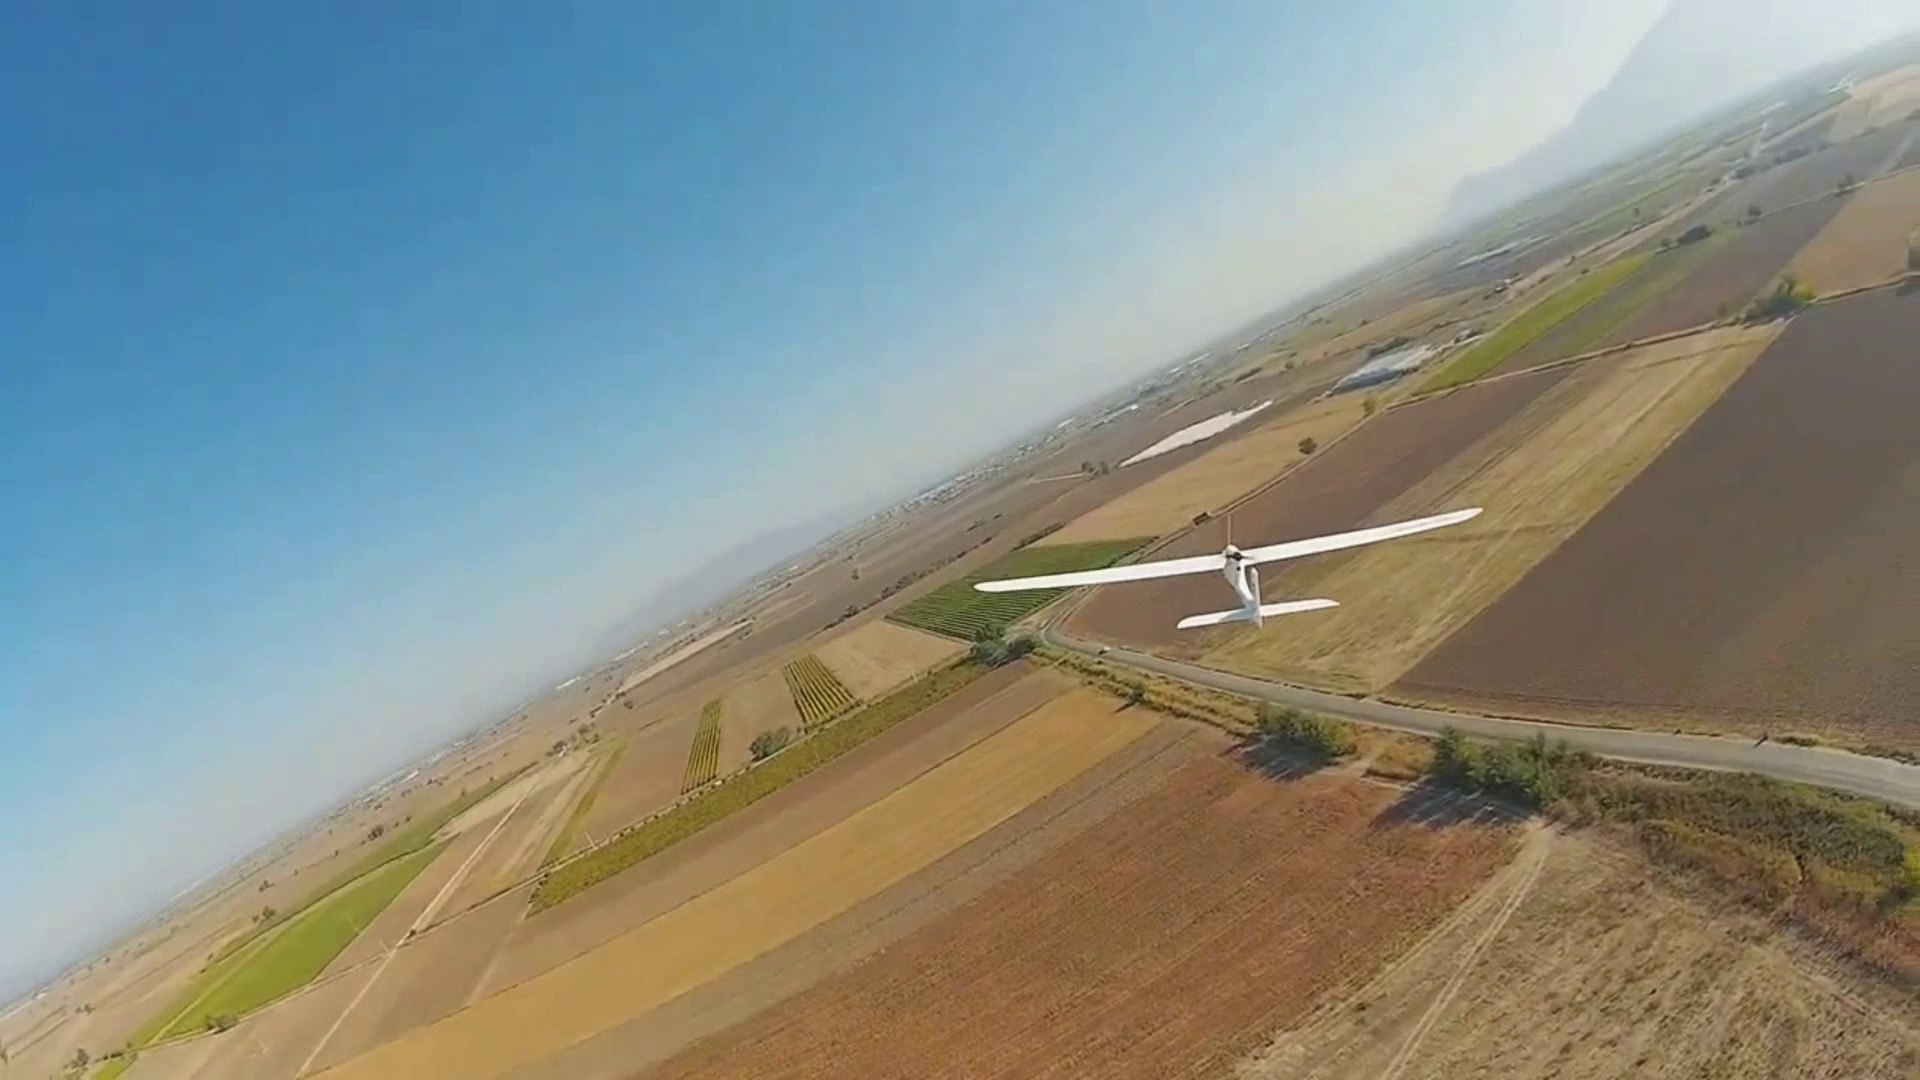airplane: (25, 35, 1916, 928)
